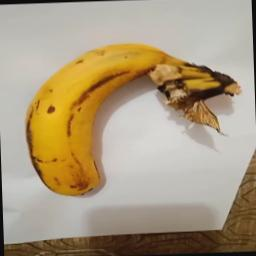Banana Unripe: (14, 36, 246, 202)
